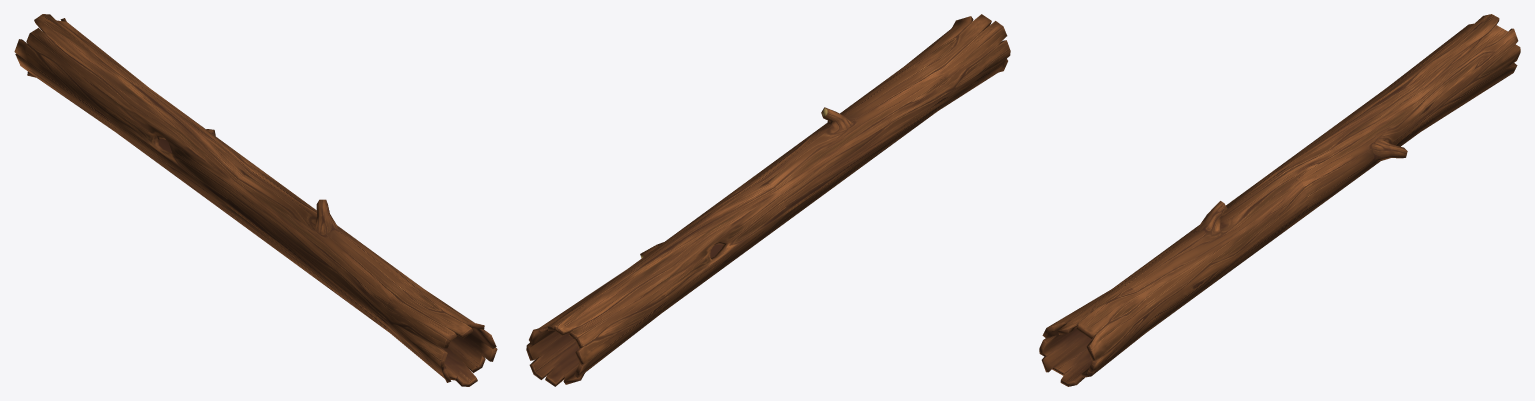
File: ppsForestTrunkLong.FBX
3 views of the same model, side by side, from view 1: azimuth 30°, elevation 25°; view 2: azimuth 150°, elevation 25°; view 3: azimuth 330°, elevation 25° (orthographic).
Parts seen in each view (by area): view 1: ppsForestTrunkLong; view 2: ppsForestTrunkLong; view 3: ppsForestTrunkLong.
Boxes of the visible parts, box(x1,y1,x2,y2) form: ppsForestTrunkLong: box(14, 14, 497, 386); ppsForestTrunkLong: box(526, 14, 1010, 386); ppsForestTrunkLong: box(1039, 14, 1520, 386).
Bounding box in the file's own units: 149 × 151 × 1534.
